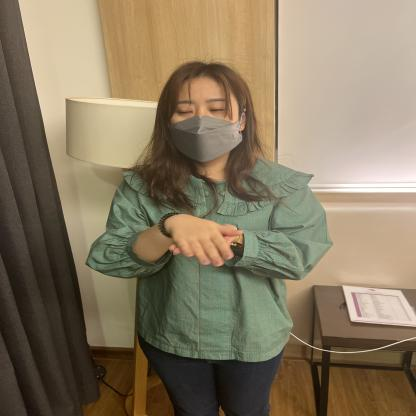Love: (124, 208, 306, 286)
